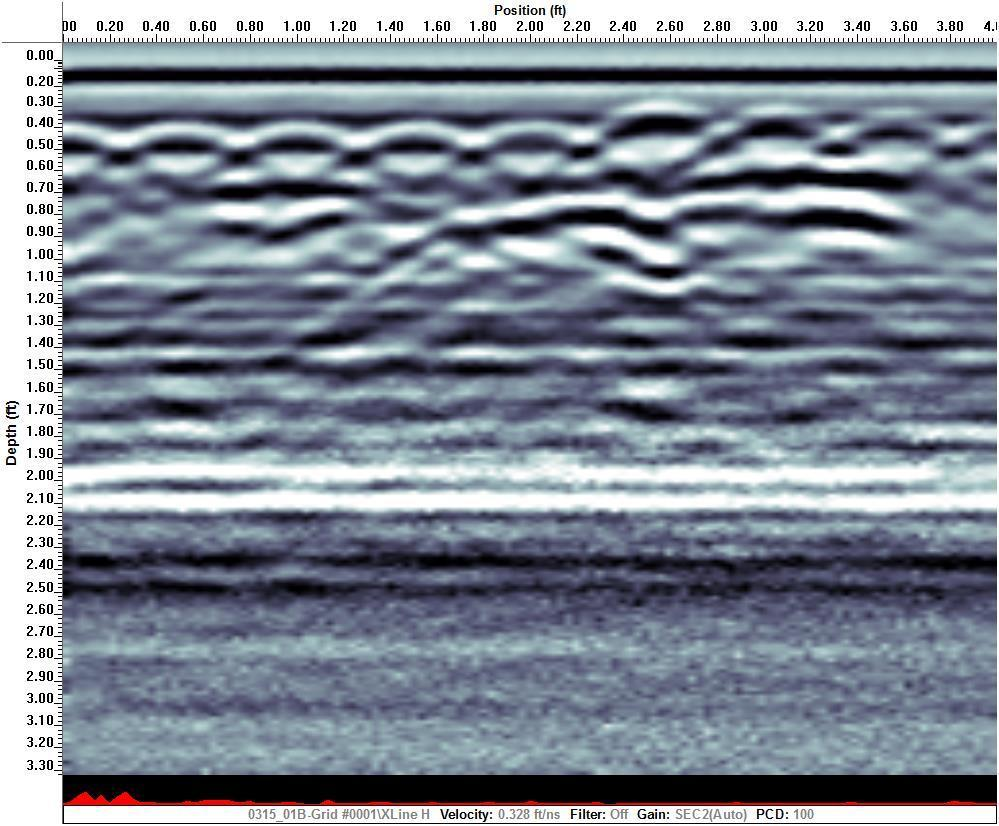hyperbola: (818, 104, 957, 154), (712, 101, 851, 151), (592, 94, 731, 144), (478, 113, 581, 164), (364, 110, 467, 161), (246, 109, 349, 160), (131, 111, 234, 162)
